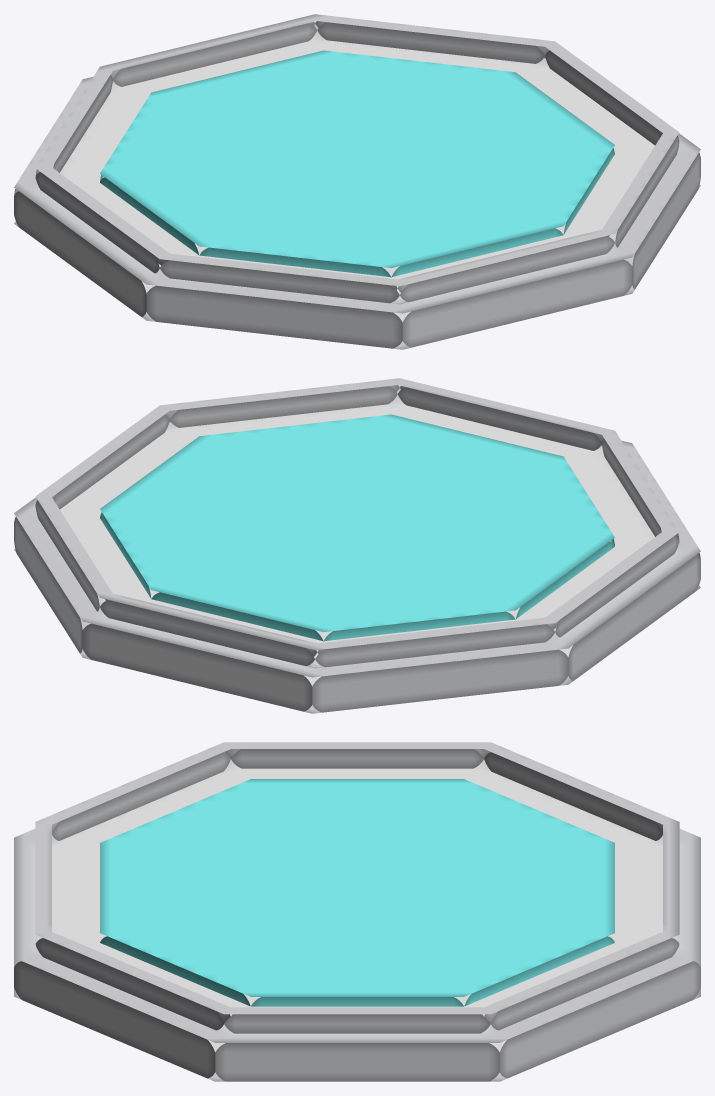
The model's file is Teleporter.fbx.
3 renders of one model, top to bottom at view 1: azimuth 30°, elevation 25°; view 2: azimuth 150°, elevation 25°; view 3: azimuth 270°, elevation 25°, orthographic. The views are drawn at different scales.
Visible parts, largest first — view 1: cylinder_1, cylinder, tube; view 2: cylinder_1, cylinder, tube; view 3: cylinder_1, cylinder, tube.
Part boxes in pixels (x1,y1,x2,y2): cylinder_1: (100, 50, 614, 277); cylinder: (14, 24, 700, 349); tube: (35, 14, 679, 304); cylinder_1: (100, 414, 614, 641); cylinder: (14, 388, 700, 713); tube: (35, 378, 679, 668); cylinder_1: (100, 779, 614, 1006); cylinder: (14, 759, 700, 1081); tube: (35, 742, 679, 1033).
Size of the model in its own units: 200 by 18.75 by 200.
1 material, 1 textured.
